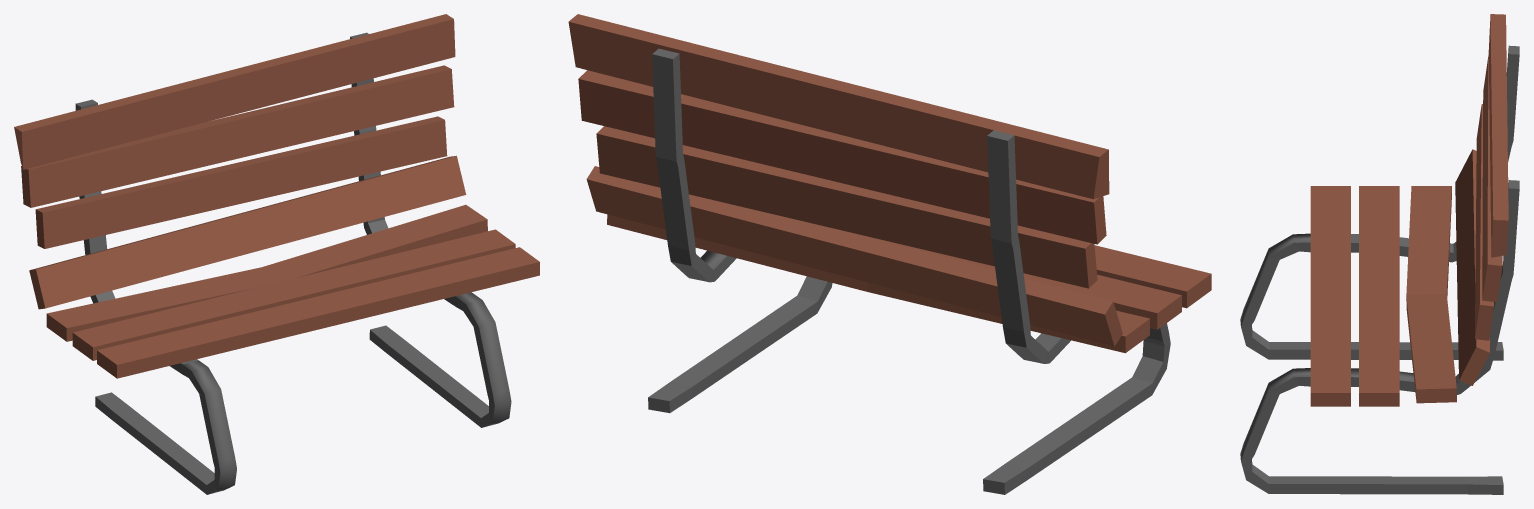
File: Bench.fbx
3 views of the same model, side by side, from view 1: azimuth 30°, elevation 25°; view 2: azimuth 150°, elevation 25°; view 3: azimuth 270°, elevation 25° (orthographic). The views are drawn at different scales.
Visible parts, largest first — view 1: bench-wood-7, bench-wood-6, bench-wood-4, bench-wood-5, bench-wood, bench-wood-3, bench-wood-2, bench-steel, bench-steel.001; view 2: bench-wood-7, bench-wood-6, bench-wood-5, bench-wood-4, bench-steel, bench-steel.001, bench-wood-3, bench-wood, bench-wood-2; view 3: bench-steel.001, bench-wood-3, bench-wood, bench-wood-2, bench-steel, bench-wood-4, bench-wood-7, bench-wood-6, bench-wood-5.
Boxes of the visible parts, x1,y1,x2,y2 form: bench-wood-7: (14,14,455,169); bench-wood-6: (21,65,454,207); bench-wood-4: (29,155,466,309); bench-wood-5: (35,116,447,248); bench-wood: (97,247,539,378); bench-wood-3: (46,204,487,341); bench-wood-2: (72,229,515,360); bench-steel: (75,99,236,494); bench-steel.001: (350,32,511,427); bench-wood-7: (568,14,1109,199); bench-wood-6: (578,70,1106,244); bench-wood-5: (596,126,1097,288); bench-wood-4: (586,166,1122,346); bench-steel: (983,130,1170,494); bench-steel.001: (648,48,832,413); bench-wood-3: (607,214,1149,353); bench-wood: (1094,245,1211,308); bench-wood-2: (847,231,1181,329); bench-steel.001: (1240,180,1519,494); bench-wood-3: (1406,186,1456,403); bench-wood: (1310,186,1350,406); bench-wood-2: (1359,186,1399,406); bench-steel: (1240,45,1519,360); bench-wood-4: (1455,149,1489,385); bench-wood-7: (1488,14,1508,257); bench-wood-6: (1482,55,1502,302); bench-wood-5: (1475,104,1493,340).
Bounding box in the file's own units: 199 × 134 × 111.
